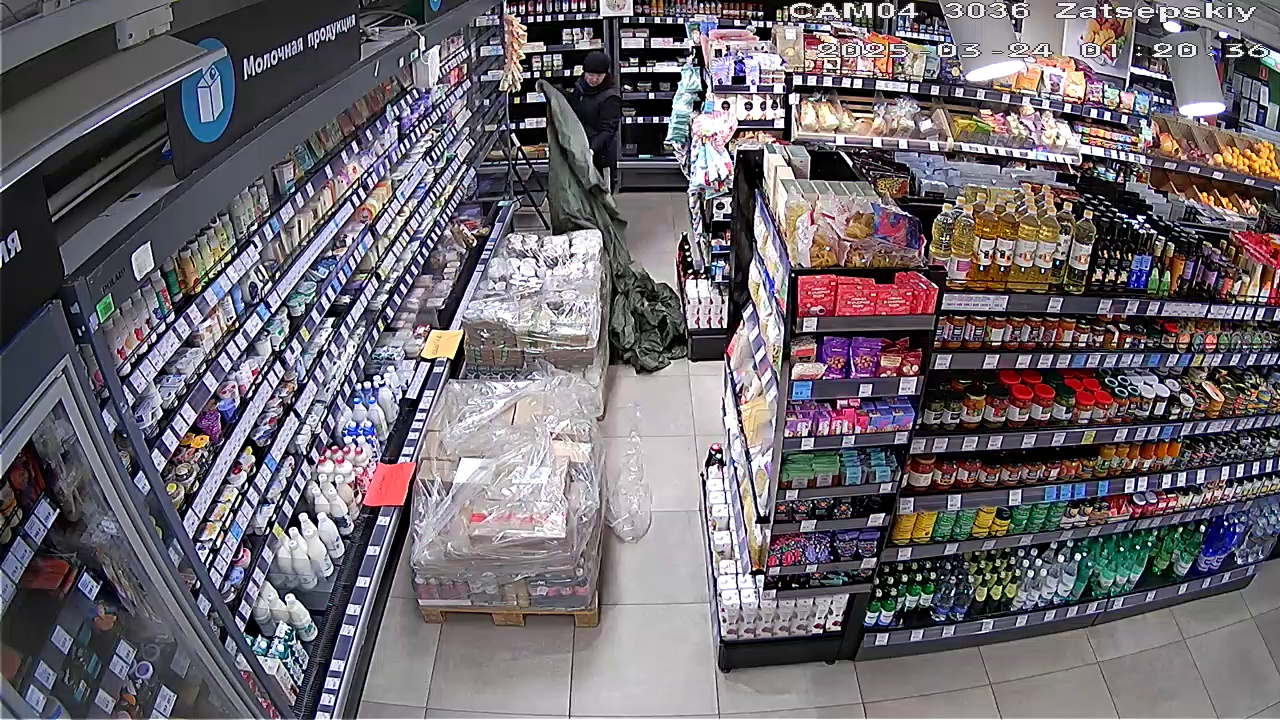Human: (550, 52, 638, 180)
pallet: (397, 364, 616, 622), (468, 234, 604, 370)
